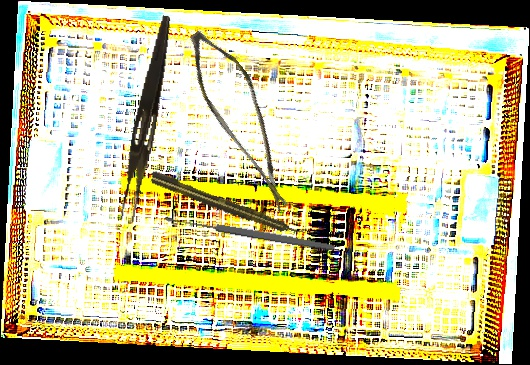Dressing Forceps: (118, 13, 175, 224)
Handpiece: (147, 168, 308, 243)
Micro Scissor: (160, 23, 328, 213)
Surgical Spoon: (164, 213, 336, 253)
